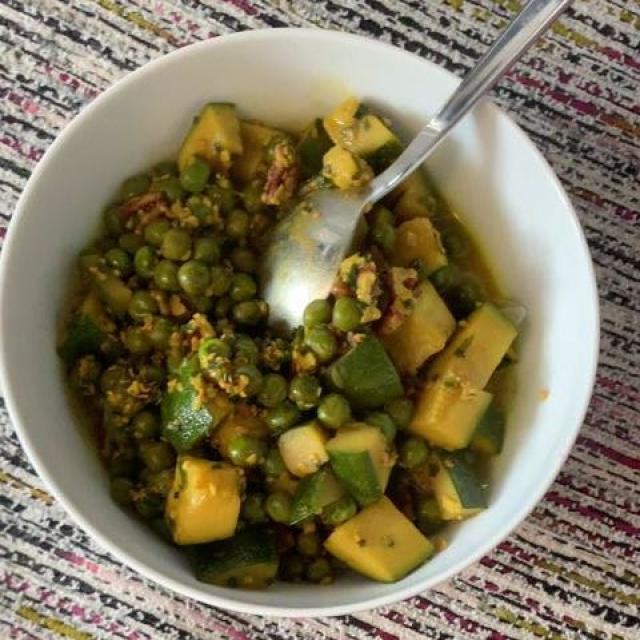peas: (62, 155, 418, 573)
pecan-nut: (77, 108, 498, 570)
zucchini: (167, 223, 527, 556)
